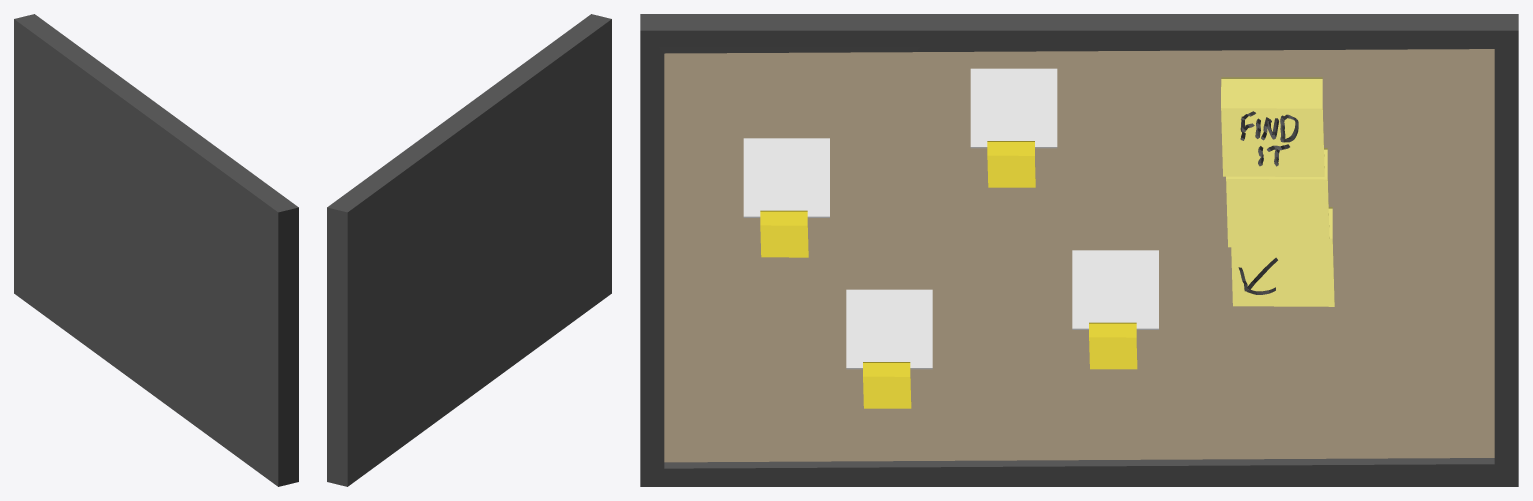
File: testboard.glb
3 renders of one model, left to right at view 1: azimuth 30°, elevation 25°; view 2: azimuth 150°, elevation 25°; view 3: azimuth 270°, elevation 25°, orthographic. The views are drawn at different scales.
Parts seen in each view (by area): view 1: Node.002; view 2: Node.002; view 3: Node.002, Node.001, Node.004, Node.005, Node.003.
Part boxes in pixels (<box>): Node.002: <box>14,14,298,486</box>; Node.002: <box>327,14,611,486</box>; Node.002: <box>640,14,1518,486</box>; Node.001: <box>970,68,1057,187</box>; Node.004: <box>846,289,932,408</box>; Node.005: <box>743,138,829,257</box>; Node.003: <box>1072,250,1158,369</box>.
Bounding box in the file's own units: 0.4268 × 5.1 × 8.9.
